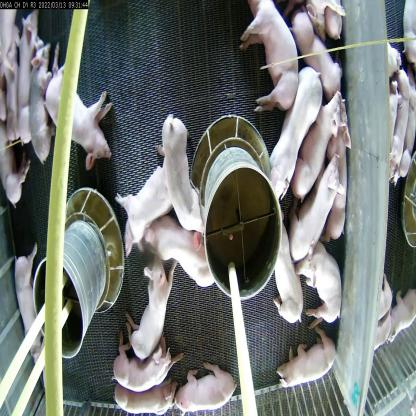Pig: (35, 39, 116, 174), (236, 0, 300, 122), (154, 106, 212, 235), (270, 64, 320, 203), (149, 209, 219, 307), (268, 210, 311, 355), (292, 83, 340, 201), (116, 163, 172, 259), (292, 156, 338, 270), (22, 40, 66, 154), (291, 12, 344, 106), (130, 255, 171, 361), (14, 244, 46, 368), (304, 249, 348, 331), (16, 1, 45, 125), (279, 325, 340, 380), (179, 362, 242, 415), (114, 379, 182, 416), (116, 342, 166, 390)
